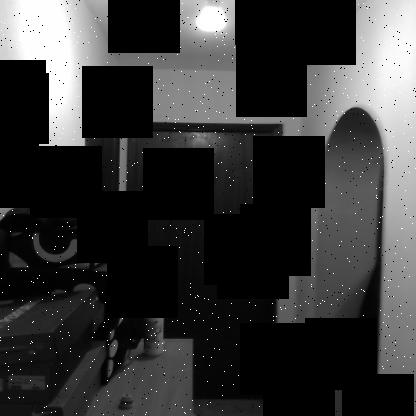Porte: (122, 120, 284, 408)
